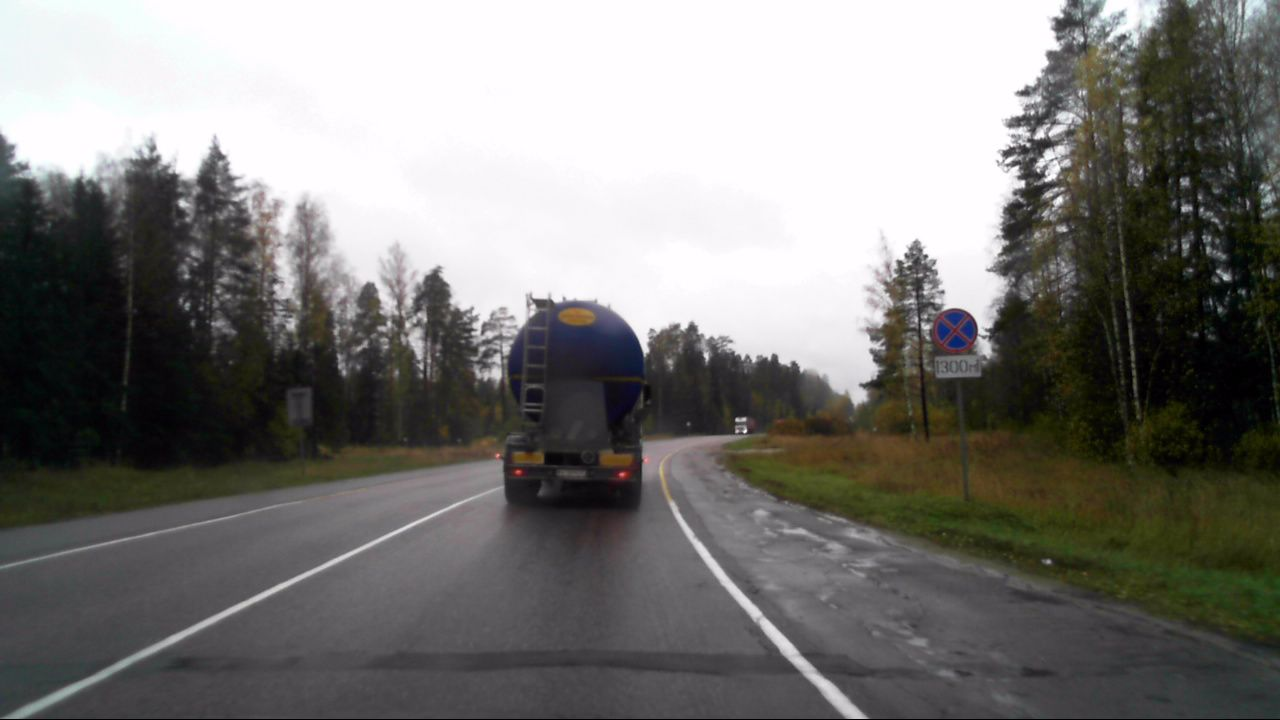No Parking: (929, 306, 981, 354)
